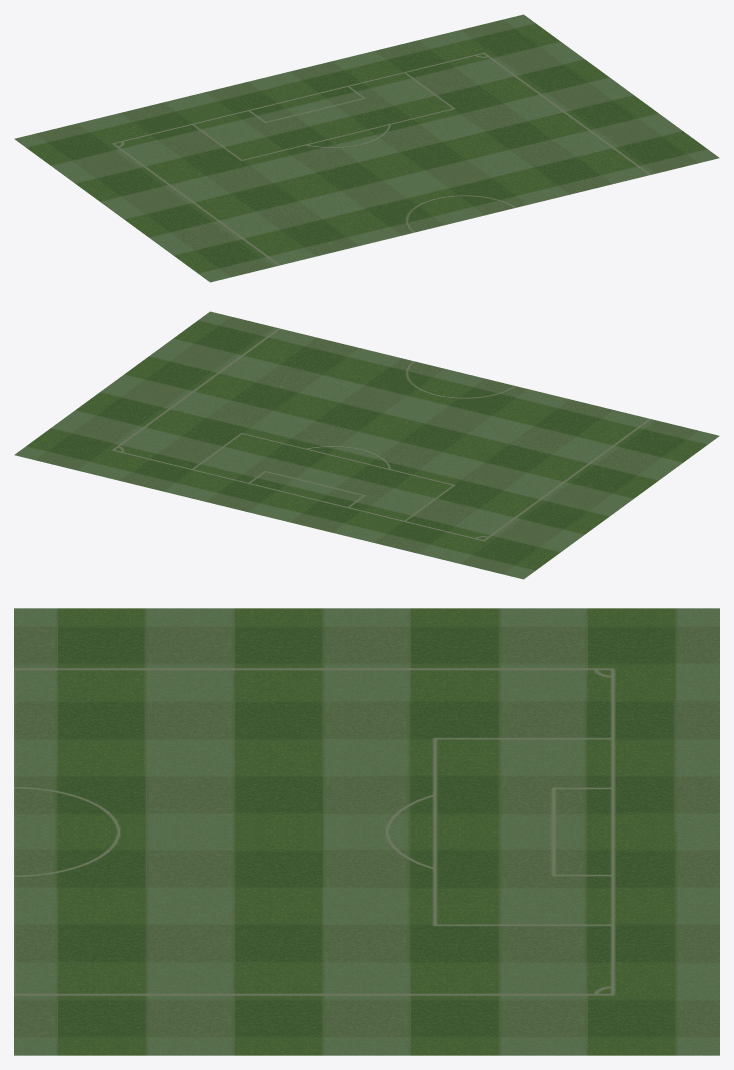
3 renders of one model, top to bottom at view 1: azimuth 30°, elevation 25°; view 2: azimuth 150°, elevation 25°; view 3: azimuth 270°, elevation 25°, orthographic. The views are drawn at different scales.
Bounding box in the file's own units: 92.4 × 0 × 61.6.
Materials: 4 (4 with a texture image).
